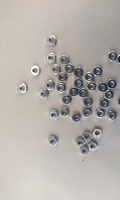nut: (108, 51, 118, 62), (107, 79, 117, 90), (93, 66, 103, 77), (31, 65, 41, 76), (18, 83, 28, 94), (39, 89, 49, 100), (45, 80, 55, 91), (57, 83, 67, 94), (74, 67, 84, 78), (84, 72, 95, 82), (87, 81, 97, 92), (104, 90, 114, 101), (107, 111, 118, 121), (93, 128, 103, 139), (47, 36, 57, 46), (47, 53, 57, 63), (59, 55, 69, 65), (58, 73, 68, 83), (51, 65, 61, 75), (98, 83, 108, 93), (76, 138, 86, 148), (80, 147, 90, 157), (89, 142, 99, 152), (83, 133, 93, 143), (50, 110, 60, 120), (72, 113, 82, 123), (60, 108, 70, 118), (62, 95, 72, 105), (83, 108, 93, 118), (99, 99, 109, 109), (84, 98, 94, 108), (78, 89, 88, 99), (74, 78, 84, 88), (70, 87, 80, 97), (49, 137, 58, 147), (97, 109, 106, 119), (66, 65, 73, 74), (117, 55, 120, 65), (119, 97, 120, 107)
